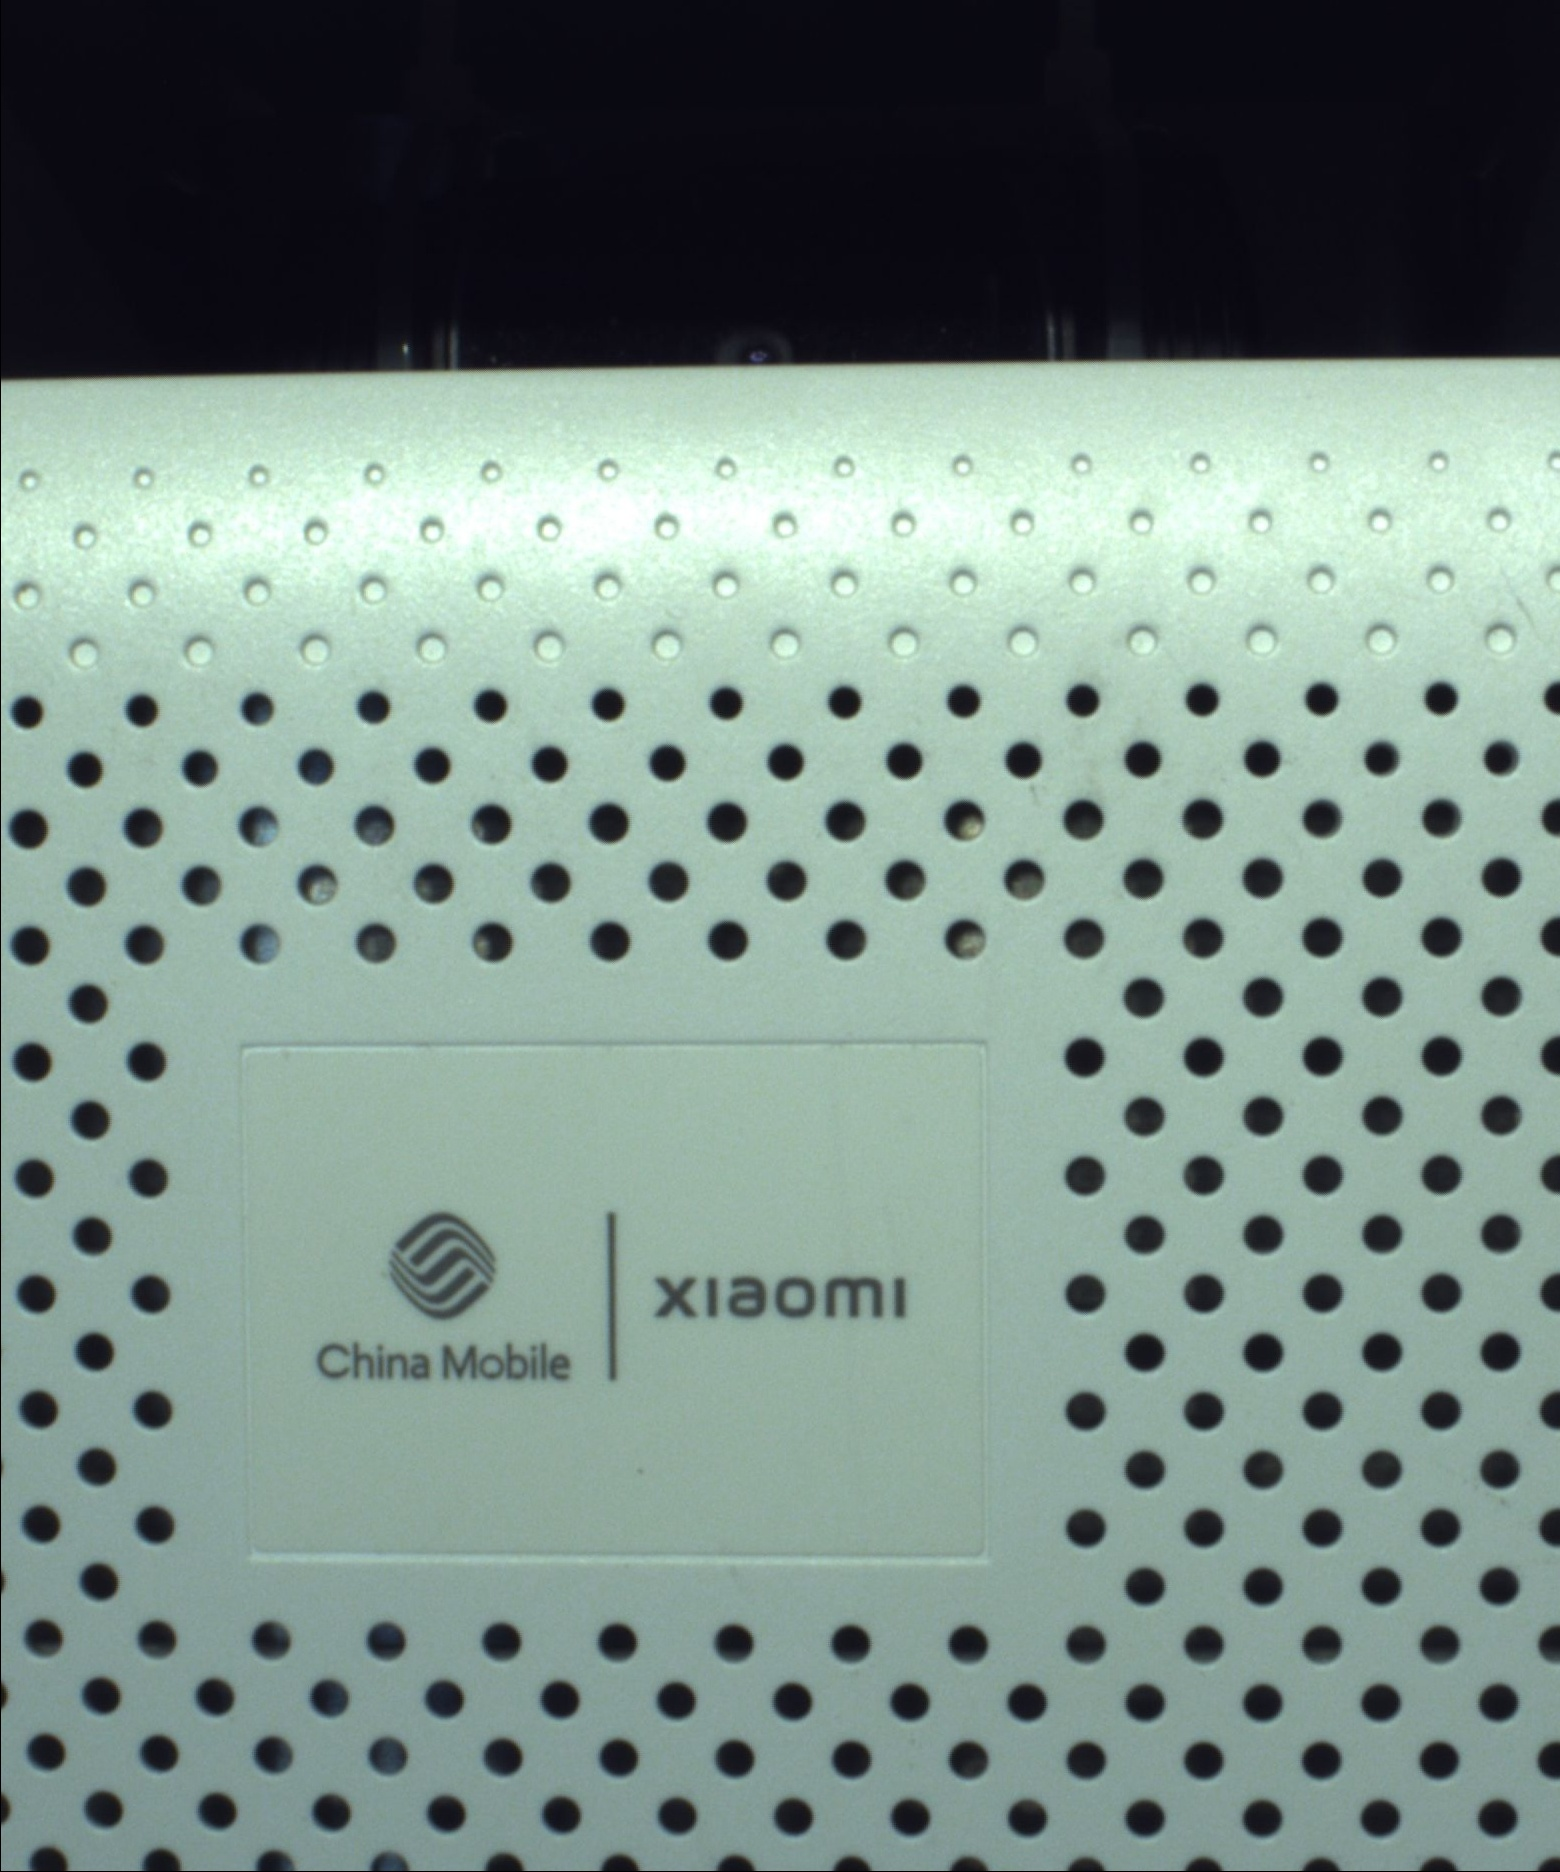MAD_ChinaMobile: (289, 1207, 915, 1402)
